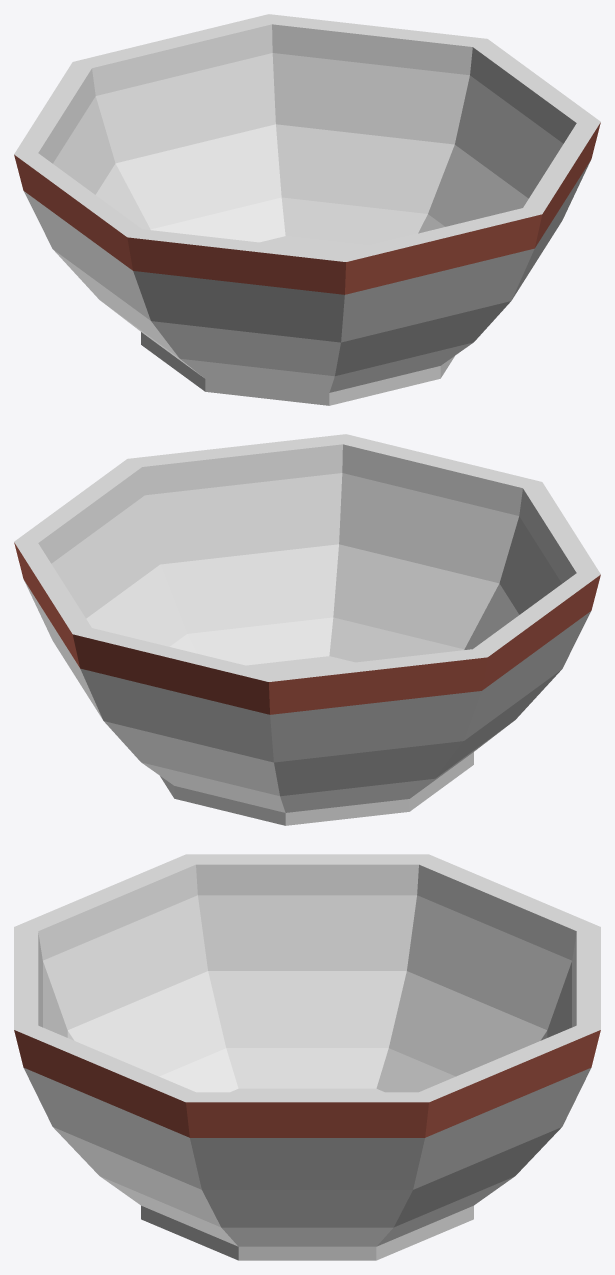
File: Plate5_C3.fbx
3 renders of one model, top to bottom at view 1: azimuth 30°, elevation 25°; view 2: azimuth 150°, elevation 25°; view 3: azimuth 270°, elevation 25°, orthographic. The views are drawn at different scales.
Parts seen in each view (by area): view 1: Plate5_C3; view 2: Plate5_C3; view 3: Plate5_C3.
Part boxes in pixels (bbox=[...]): Plate5_C3: bbox=[14, 14, 600, 405]; Plate5_C3: bbox=[14, 434, 600, 825]; Plate5_C3: bbox=[14, 854, 600, 1260].
Size of the model in its own units: 23.87 by 9.51 by 23.87.
